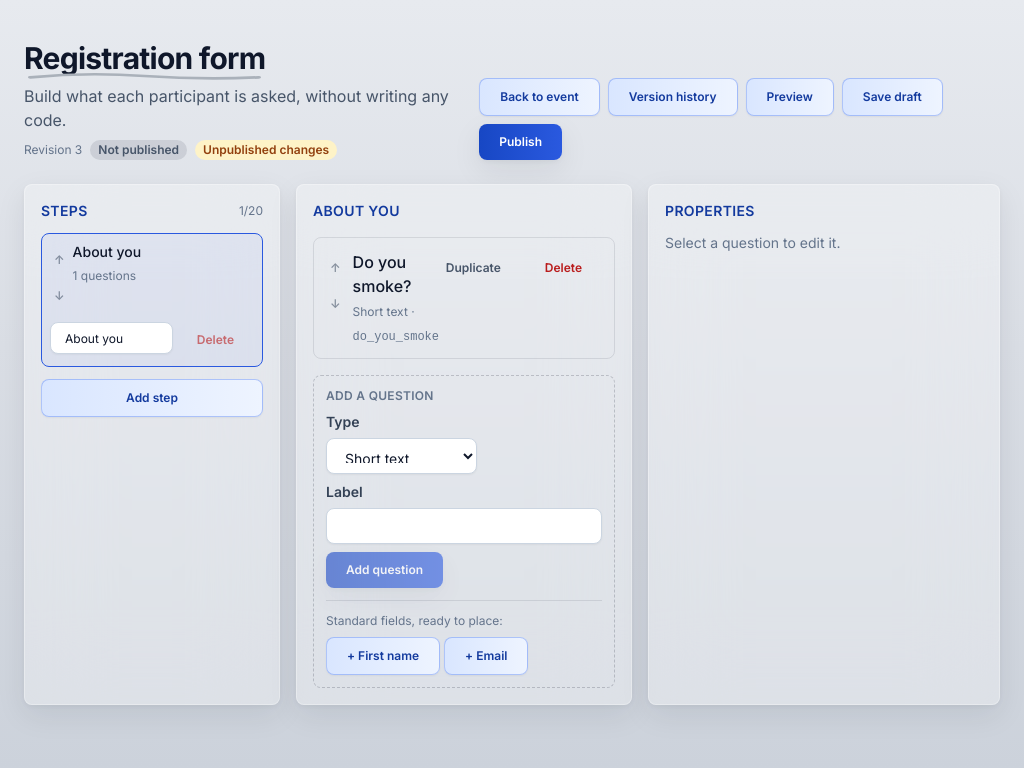
the properties panel › prompts until a question is selected
Expected: the text "Select a question to edit it." is shown, 665,234 -> 840,251
Click the text "Do you smoke?" at [385, 274], box 353,250 -> 418,298
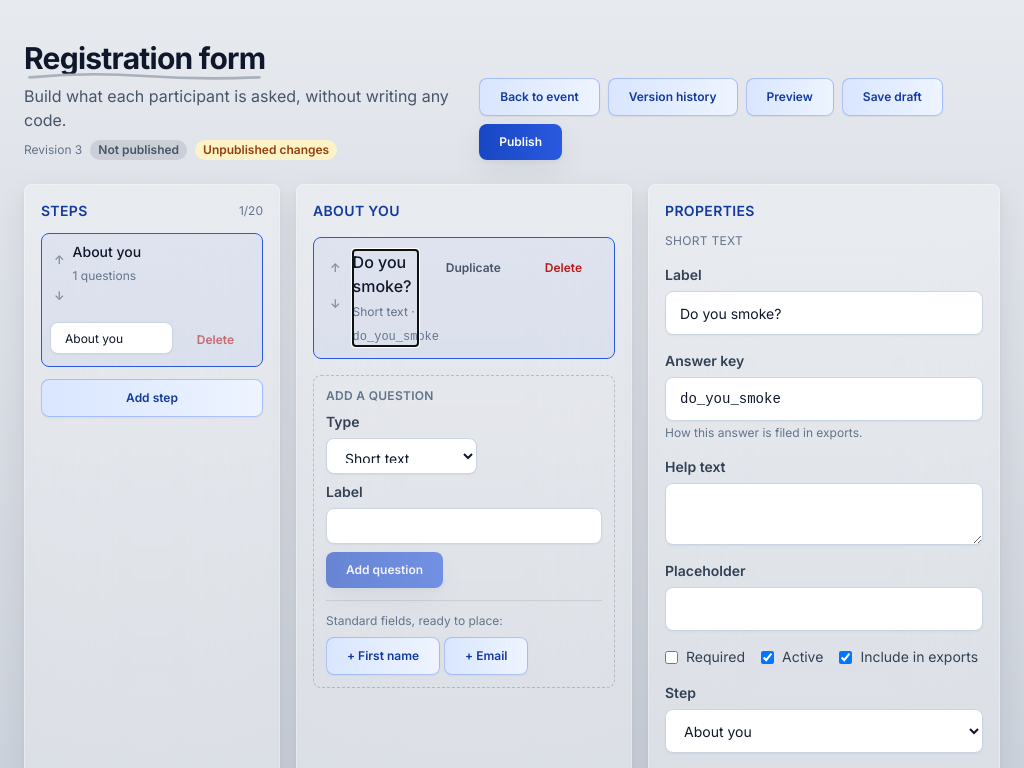
Expected: the field labelled "Answer key" holds "do_you_smoke", 665,377 -> 983,421
